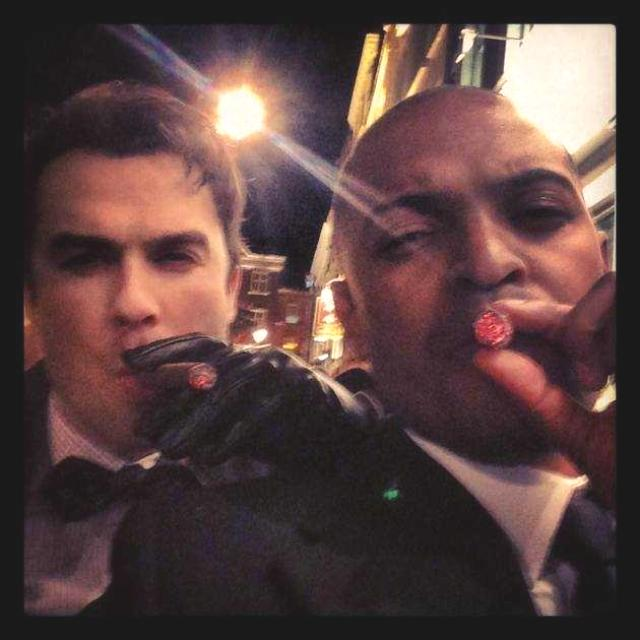Smooking: (466, 288, 529, 367), (138, 359, 250, 399)
